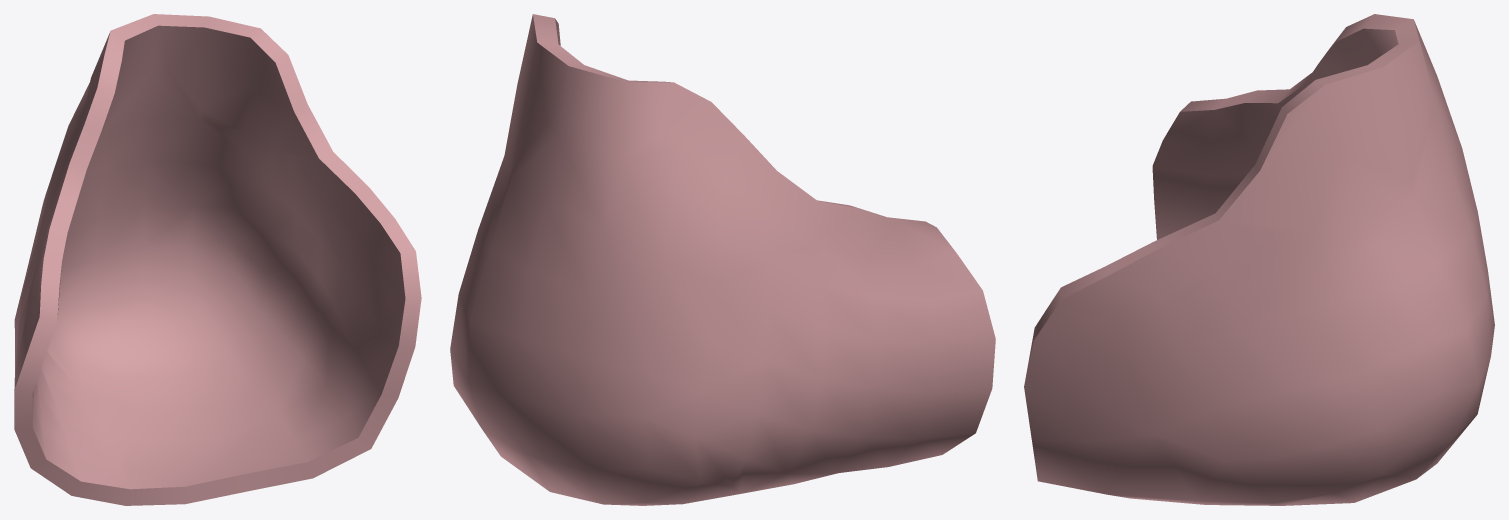
3 views of the same model, side by side, from view 1: azimuth 30°, elevation 25°; view 2: azimuth 150°, elevation 25°; view 3: azimuth 270°, elevation 25° (orthographic). The views are drawn at different scales.
Visible parts, largest first — view 1: ZA_e092e41b883f75ef; view 2: ZA_e092e41b883f75ef; view 3: ZA_e092e41b883f75ef.
Part boxes in pixels (x1,y1,x2,y2): ZA_e092e41b883f75ef: [14, 14, 421, 505]; ZA_e092e41b883f75ef: [450, 14, 995, 505]; ZA_e092e41b883f75ef: [1024, 14, 1494, 505].
Bounding box in the file's own units: 0.068 × 0.0676 × 0.0631.
